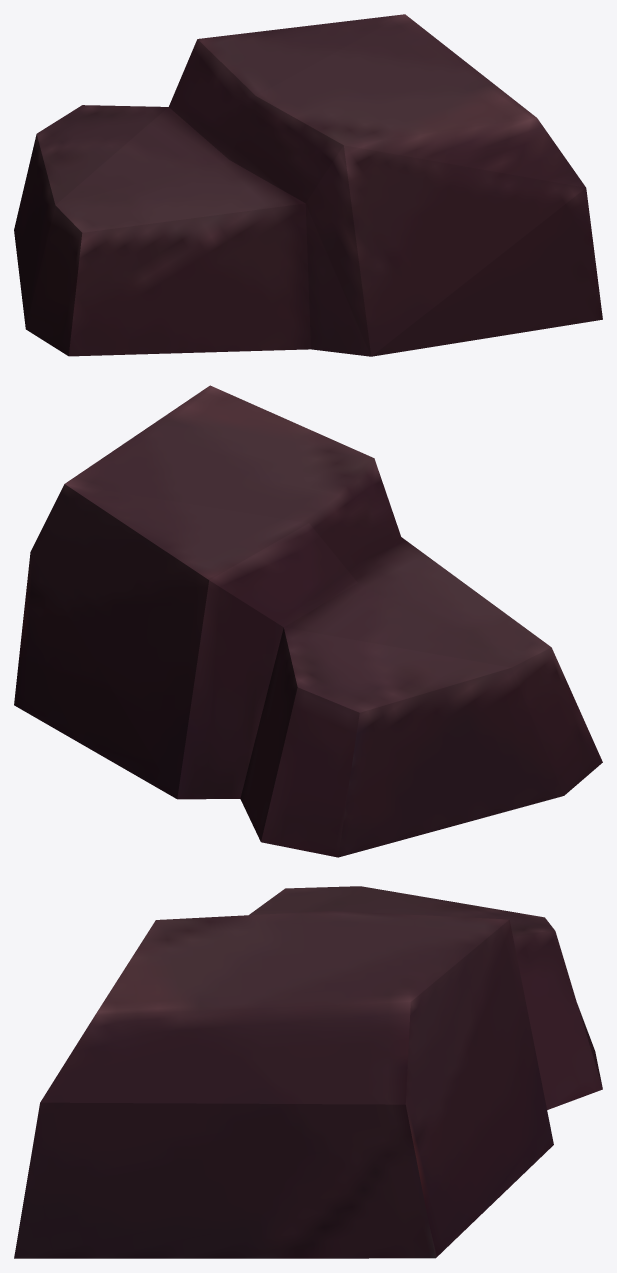
The model's file is suisi_5.FBX.
3 renders of one model, top to bottom at view 1: azimuth 30°, elevation 25°; view 2: azimuth 150°, elevation 25°; view 3: azimuth 270°, elevation 25°, orthographic. The views are drawn at different scales.
Parts seen in each view (by area): view 1: suisi_5; view 2: suisi_5; view 3: suisi_5.
Part boxes in pixels (box(x1,y1,x2,y2)): suisi_5: box(14, 14, 602, 356); suisi_5: box(14, 385, 602, 857); suisi_5: box(14, 886, 602, 1258).
Bounding box in the file's own units: 3.03 × 1.27 × 2.87.
